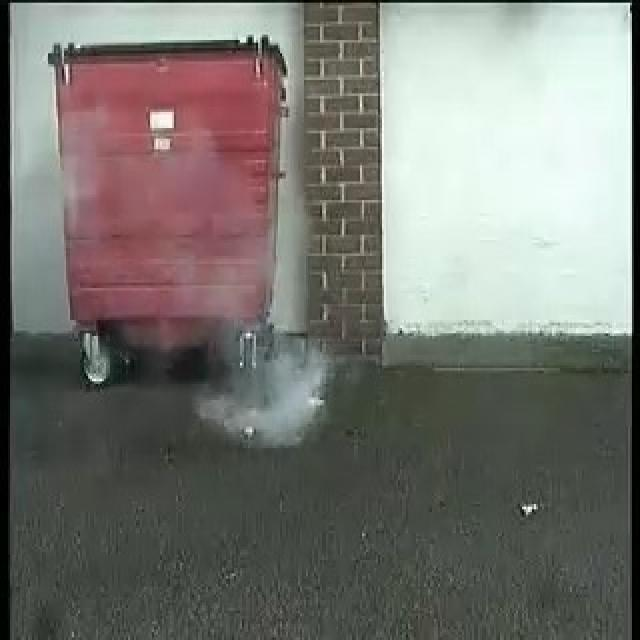smoke: (192, 320, 327, 445)
